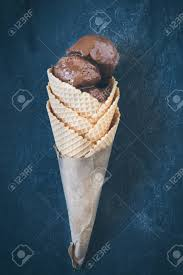ice-cream: (70, 36, 118, 78), (55, 56, 99, 90), (85, 86, 112, 104)
